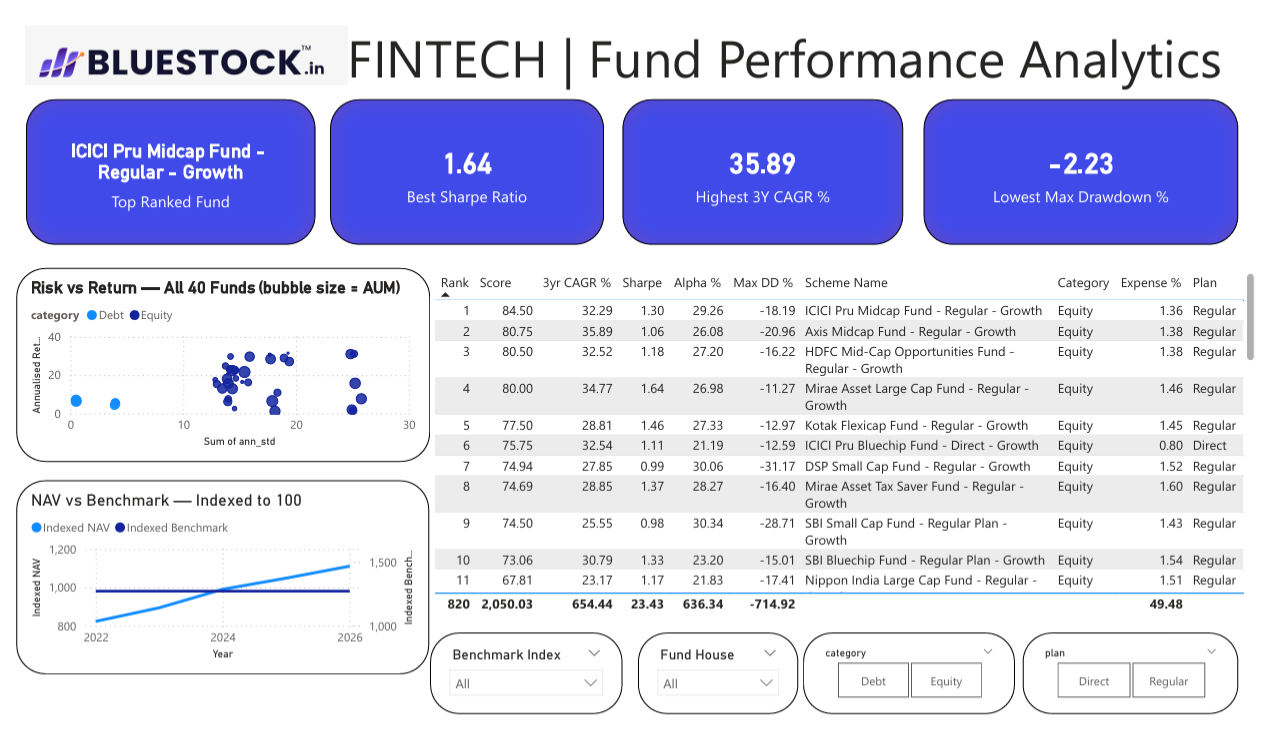

Layout of this report page (visuals, bound fields, positions):
{"tool":"powerbi","page":{"name":"Fund Performance","canvas":[1280,720],"ordinal":1},"visuals":[{"type":"textbox","box":[10.6,0,1269.7,86.4],"z":0},{"type":"scatterChart","title":"Risk vs Return — All 40 Funds (bubble size = AUM)","fields":{"X":["Sum(sharpe_values.ann_std)"],"Y":["Sum(sharpe_values.ann_return)"],"Size":["Sum(clean_scheme_performance.aum_crore)"],"Series":["clean_fund_master.category"],"Category":["clean_fund_master.scheme_name"]},"box":[0,260,426.2,200],"z":1000},{"type":"tableEx","fields":{"Values":["Sum(fund_scorecard.scorecard_rank)","Sum(fund_scorecard.composite_score)","Sum(fund_scorecard.cagr_3yr_pct)","Sum(fund_scorecard.sharpe_ratio)","Sum(fund_scorecard.alpha_annualised)","Sum(fund_scorecard.max_drawdown)","clean_fund_master.scheme_name","clean_fund_master.category","Sum(clean_scheme_performance.expense_ratio_pct)","clean_fund_master.plan"]},"box":[426.2,260,853.8,361.2],"z":2000},{"type":"lineChart","title":"NAV vs Benchmark — Indexed to 100","fields":{"Category":["clean_nav_history.date.Variation.Date Hierarchy.Year","clean_nav_history.date.Variation.Date Hierarchy.Quarter","clean_nav_history.date.Variation.Date Hierarchy.Month","clean_nav_history.date.Variation.Date Hierarchy.Day"],"Y":["clean_nav_history.Indexed NAV"],"Y2":["clean_benchmark_indices.Indexed Benchmark"]},"box":[0,478.8,425,200],"z":3000},{"type":"slicer","fields":{"Values":["clean_fund_master.fund_house"]},"box":[640,636.2,165,83.8],"z":4000},{"type":"slicer","fields":{"Values":["clean_fund_master.category"]},"box":[810,636.2,217.5,83.8],"z":5000},{"type":"slicer","fields":{"Values":["clean_fund_master.plan"]},"box":[1036.2,636.2,221.2,83.8],"z":6000},{"type":"slicer","fields":{"Values":["clean_benchmark_indices.index_name"]},"box":[426.2,636.2,197.5,83.8],"z":7000},{"type":"image","box":[8.8,10,332.5,62.5],"z":8000},{"type":"card","fields":{"Values":["Min(clean_fund_master.scheme_name)"]},"box":[10,86.2,297.5,150],"z":9000},{"type":"card","fields":{"Values":["Max(fund_scorecard.sharpe_ratio)"]},"box":[322.5,86.2,282.5,150],"z":10000},{"type":"card","fields":{"Values":["Max(fund_scorecard.cagr_3yr_pct)"]},"box":[623.8,86.2,288.8,150],"z":11000},{"type":"card","fields":{"Values":["Max(clean_scheme_performance.max_drawdown_pct)"]},"box":[933.8,86.2,323.8,150],"z":12000}]}

Visuals, with their boxes in screenshot pixels (x1, y1, x2, y2), scaled from the page's 1280x720 canvas onto the 1268x732 screenshot:
textbox: l=11, t=0, r=1267, b=88
"Risk vs Return — All 40 Funds (bubble size = AUM)" scatterChart: l=0, t=264, r=422, b=468
tableEx - Sum(fund_scorecard.scorecard_rank) x Sum(fund_scorecard.composite_score): l=422, t=264, r=1267, b=632
"NAV vs Benchmark — Indexed to 100" lineChart: l=0, t=487, r=421, b=690
slicer - clean_fund_master.fund_house: l=634, t=647, r=797, b=731
slicer - clean_fund_master.category: l=802, t=647, r=1018, b=731
slicer - clean_fund_master.plan: l=1026, t=647, r=1246, b=731
slicer - clean_benchmark_indices.index_name: l=422, t=647, r=618, b=731
image: l=9, t=10, r=338, b=74
card - Min(clean_fund_master.scheme_name): l=10, t=88, r=305, b=240
card - Max(fund_scorecard.sharpe_ratio): l=319, t=88, r=599, b=240
card - Max(fund_scorecard.cagr_3yr_pct): l=618, t=88, r=904, b=240
card - Max(clean_scheme_performance.max_drawdown_pct): l=925, t=88, r=1246, b=240
